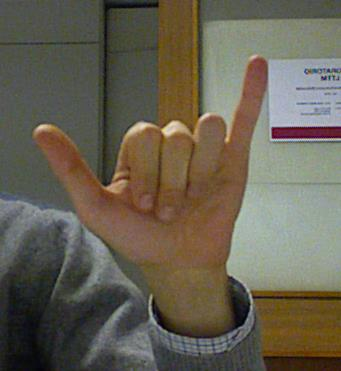clockwise: (23, 52, 271, 263)
